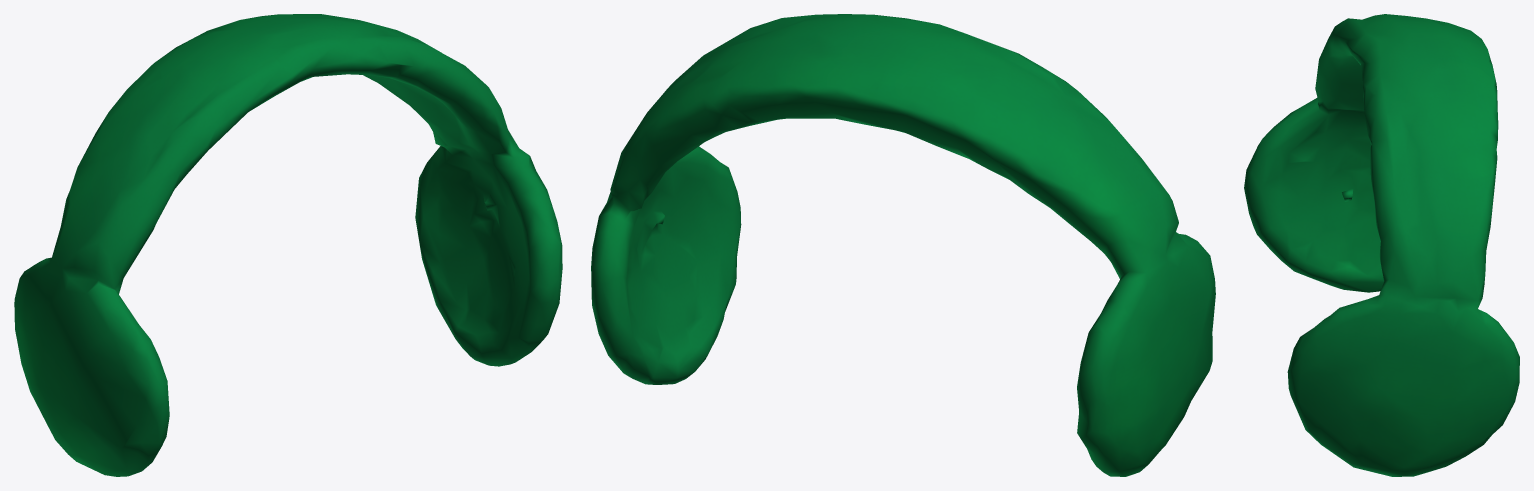
File: green headphones.glb
3 views of the same model, side by side, from view 1: azimuth 30°, elevation 25°; view 2: azimuth 150°, elevation 25°; view 3: azimuth 270°, elevation 25° (orthographic). The views are drawn at different scales.
Parts seen in each view (by area): view 1: headphones_green.001; view 2: headphones_green.001; view 3: headphones_green.001.
Part boxes in pixels (x1,y1,x2,y2): headphones_green.001: (14,14,562,476); headphones_green.001: (591,14,1215,476); headphones_green.001: (1244,14,1519,476).
Size of the model in its own units: 0.3821 by 0.2792 by 0.2016.
Materials: 1 (1 with a texture image).
